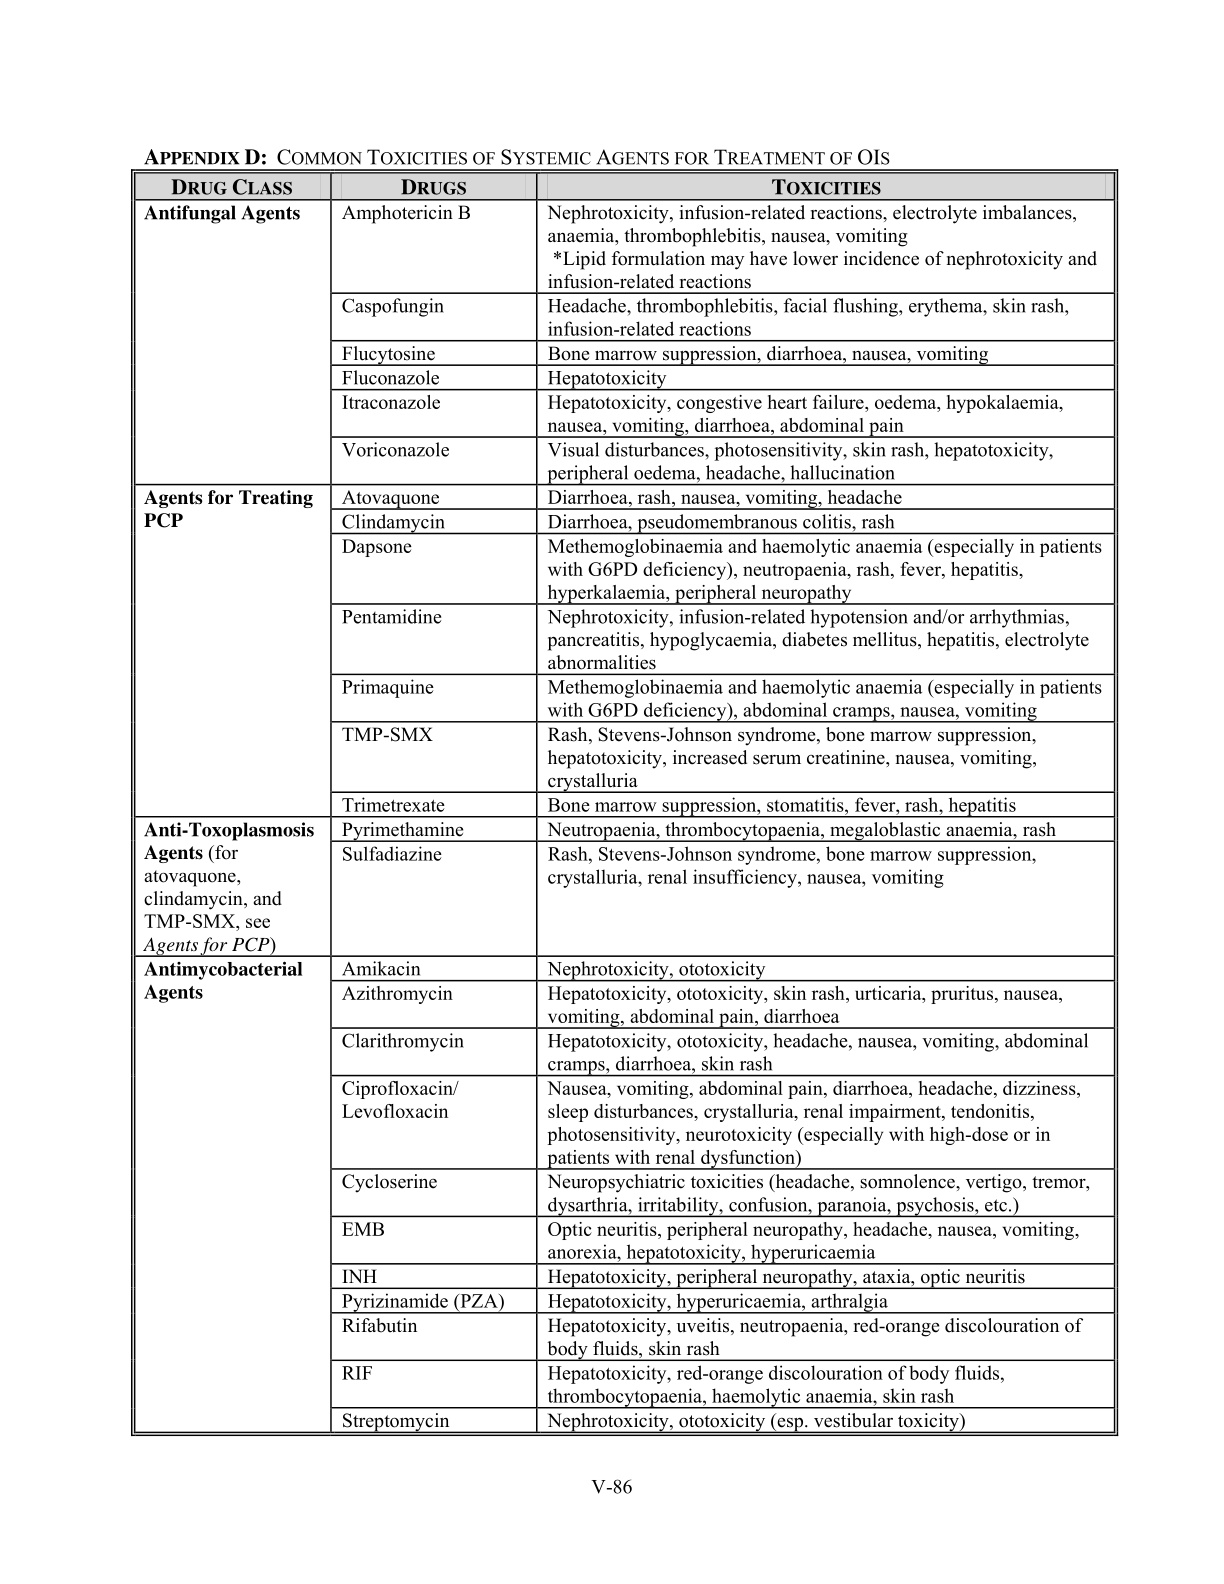merged_cells: (130, 168, 1120, 1437)
